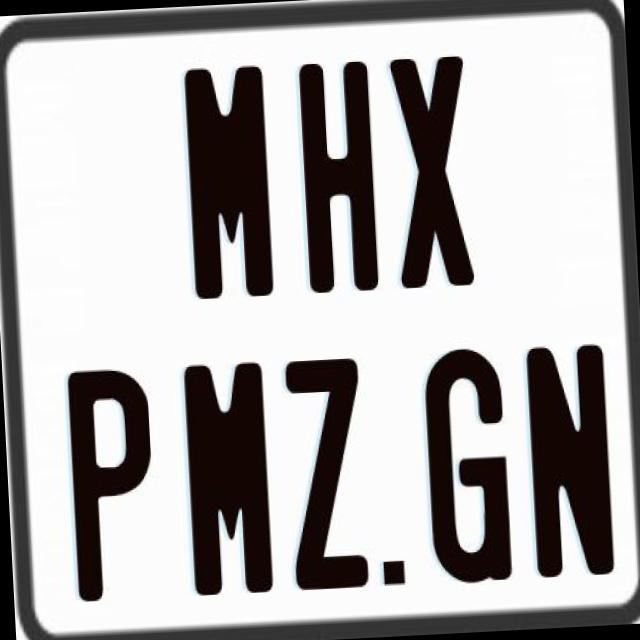G: (420, 346, 514, 591)
H: (296, 60, 384, 302)
M: (179, 357, 273, 599), (184, 61, 276, 298)
N: (524, 339, 614, 581)
P: (64, 366, 156, 600)
X: (386, 54, 476, 288)
Z: (284, 355, 368, 595)
